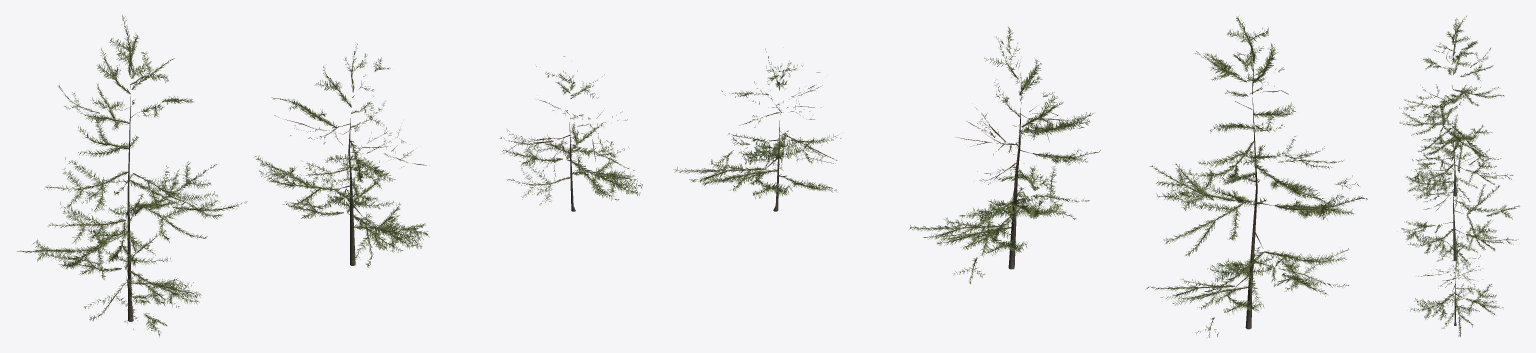
Rendered from village-pbr-fir_sapling.glb.
3 views of the same model, side by side, from view 1: azimuth 30°, elevation 25°; view 2: azimuth 150°, elevation 25°; view 3: azimuth 270°, elevation 25° (orthographic). The views are drawn at different scales.
Parts seen in each view (by area): view 1: fir_sapling_a; view 2: fir_sapling_a; view 3: fir_sapling_a.
Part boxes in pixels (x1,y1,x2,y2): fir_sapling_a: (17,15,642,336); fir_sapling_a: (673,16,1367,338); fir_sapling_a: (1399,16,1519,336).
Bounding box in the file's own units: 2.73 × 1.3 × 0.8057.
Materials: 2 (2 with a texture image).
